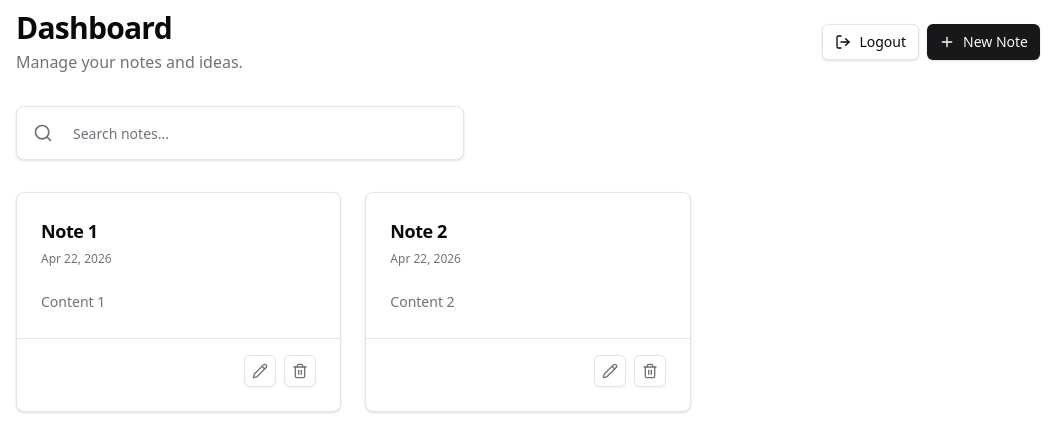
Test: Dashboard Page › filters notes based on search
The image size is (1057, 430).
Check: the heading "Note 1" is shown, box [41,219,98,243]
Type "Note 1" into the field with placeholder "Search notes..." at [258, 133], box [61,115,455,151]
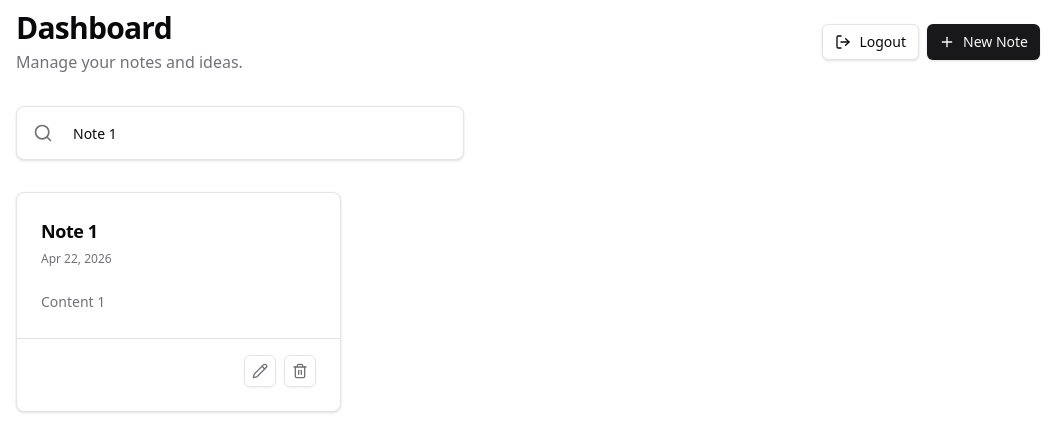
Check: the heading "Note 1" is shown, box [41,219,98,243]
Check: the heading "Note 2" is gone
